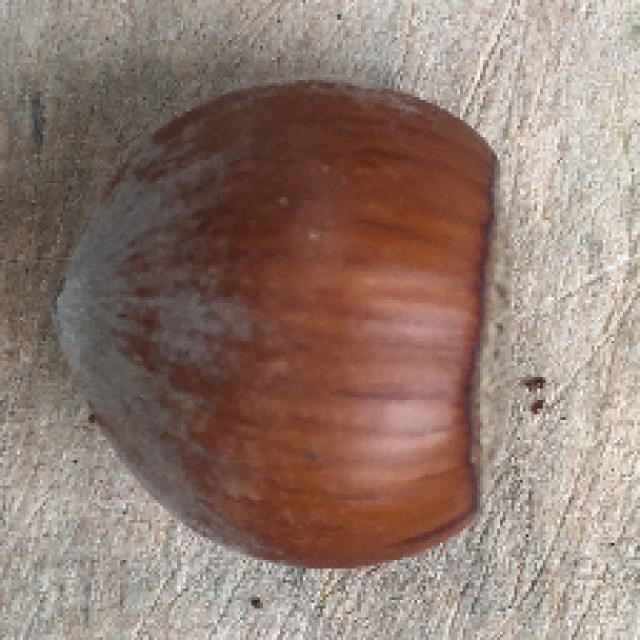qualityHazelnut: (48, 75, 510, 570)
